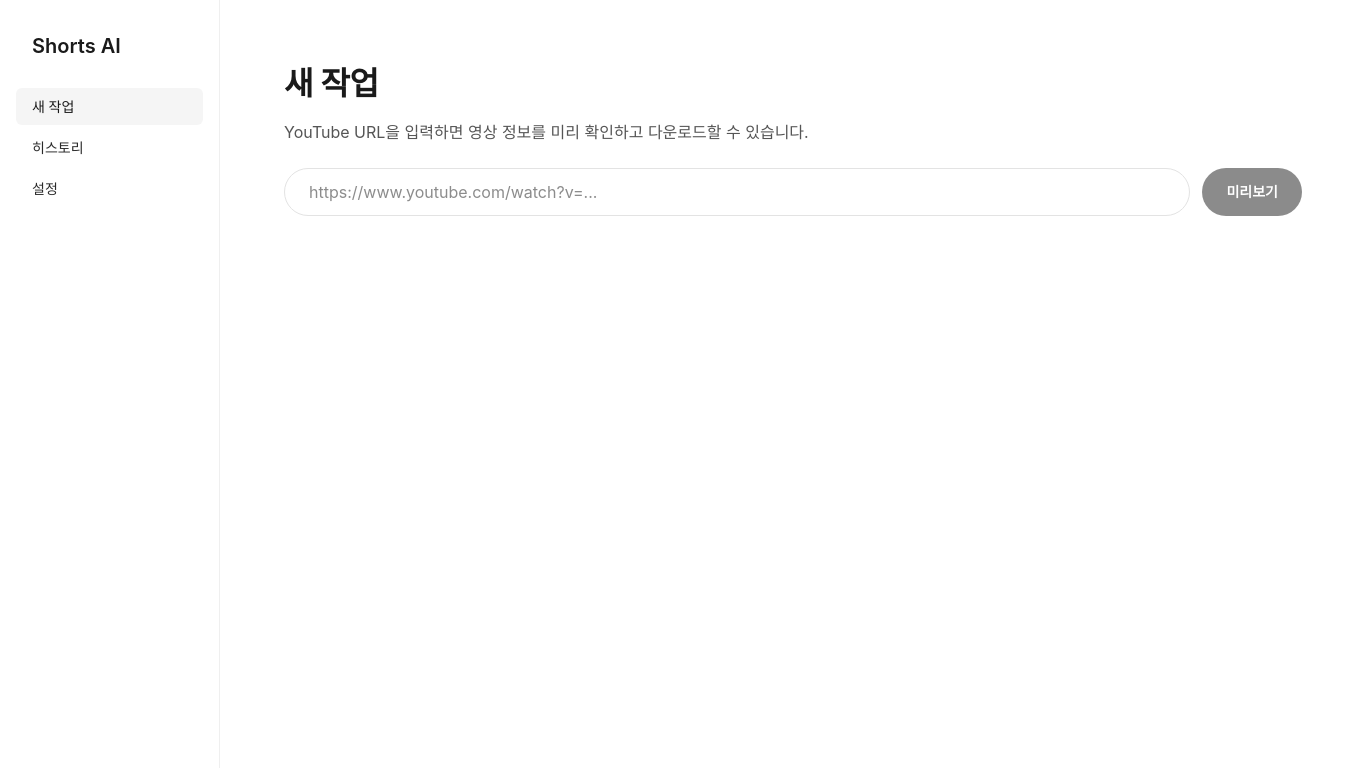
it: App shell › navigates to settings when the Settings link is clicked
Click the link "설정" at (45, 188), box [32,180,58,197]
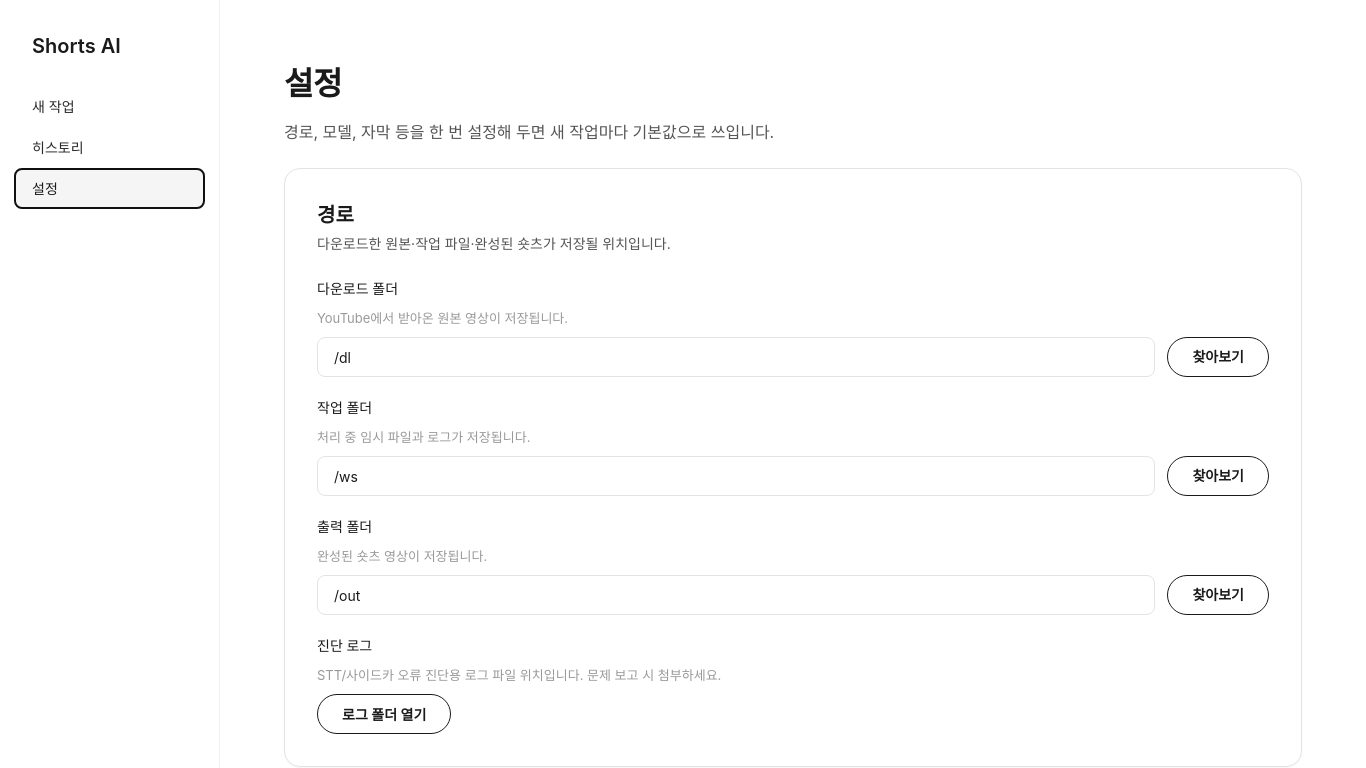
Check: the heading "설정" is shown, box [284,64,342,103]
